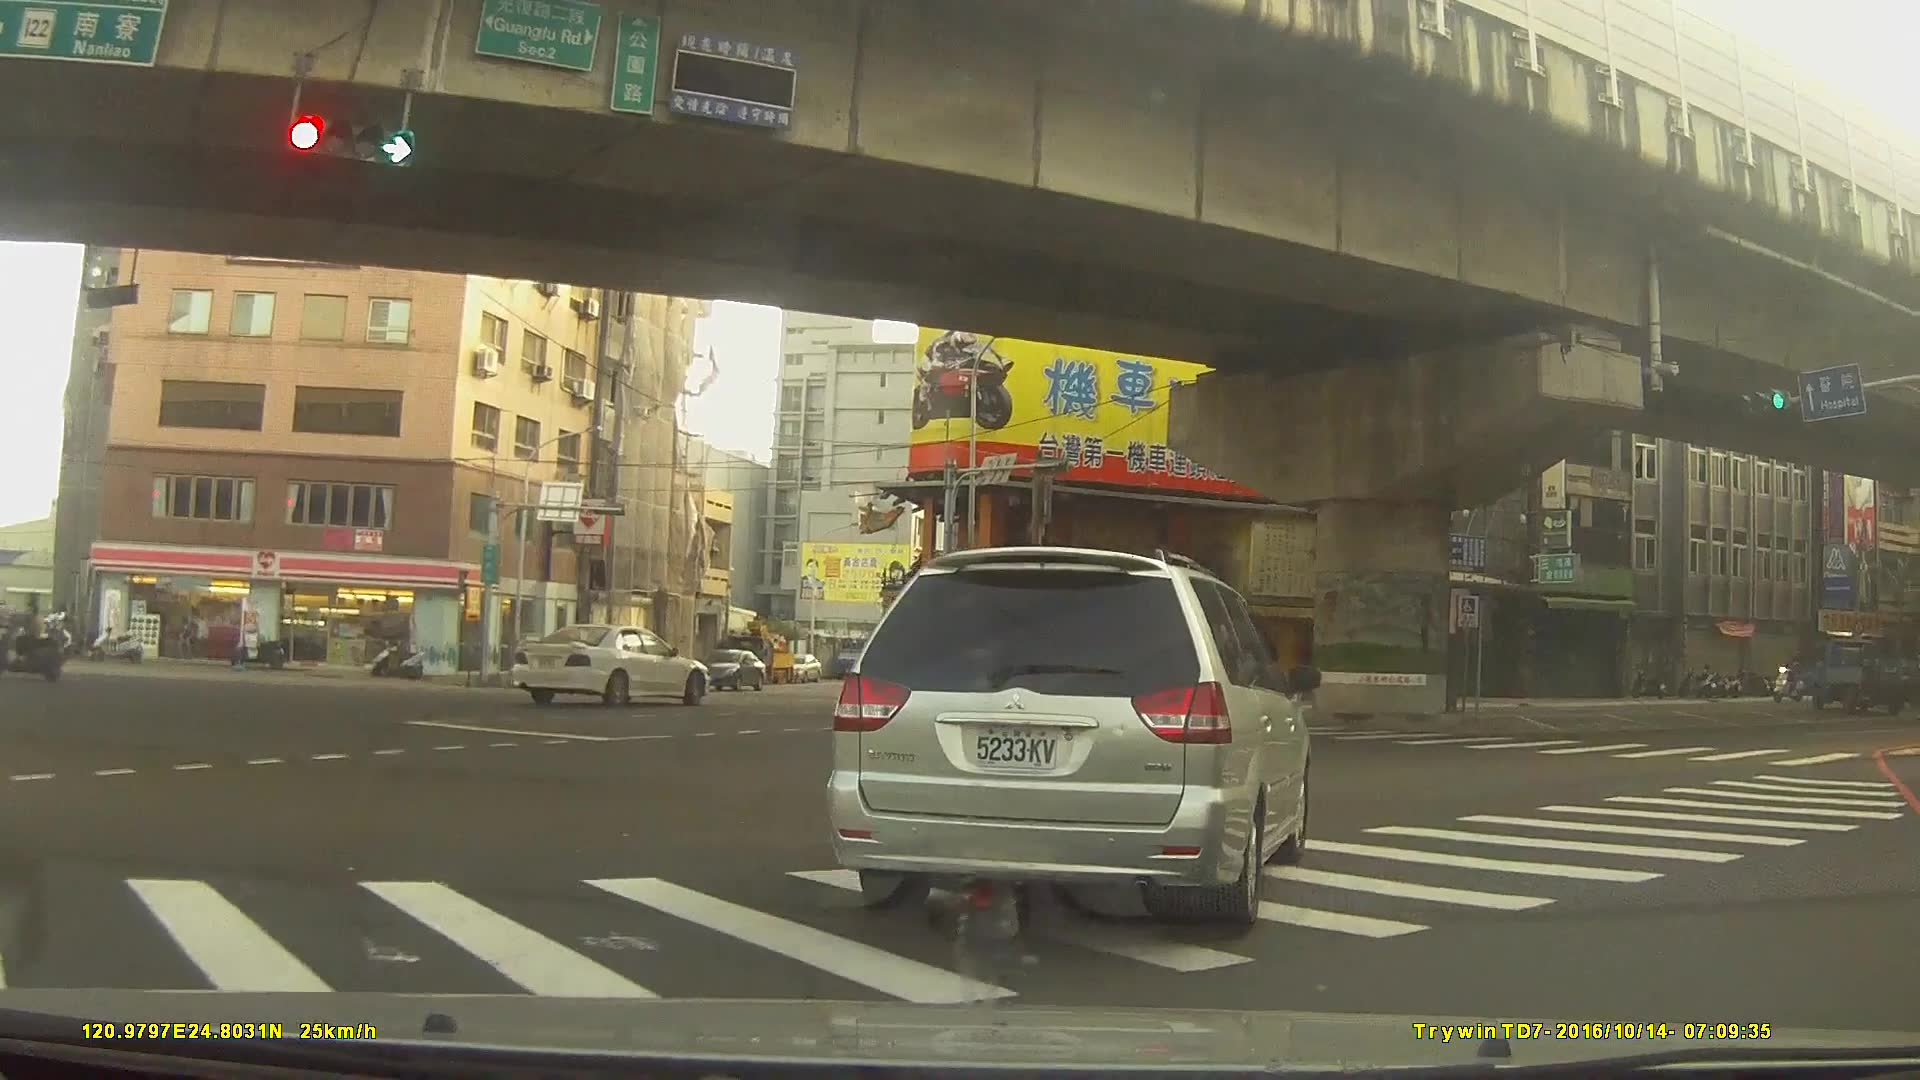rider: (841, 630, 918, 709), (1, 595, 69, 683), (1771, 651, 1809, 703)
vehicle: (822, 543, 1309, 938), (508, 622, 709, 712), (1804, 635, 1917, 716), (693, 646, 767, 688), (782, 652, 822, 683)
